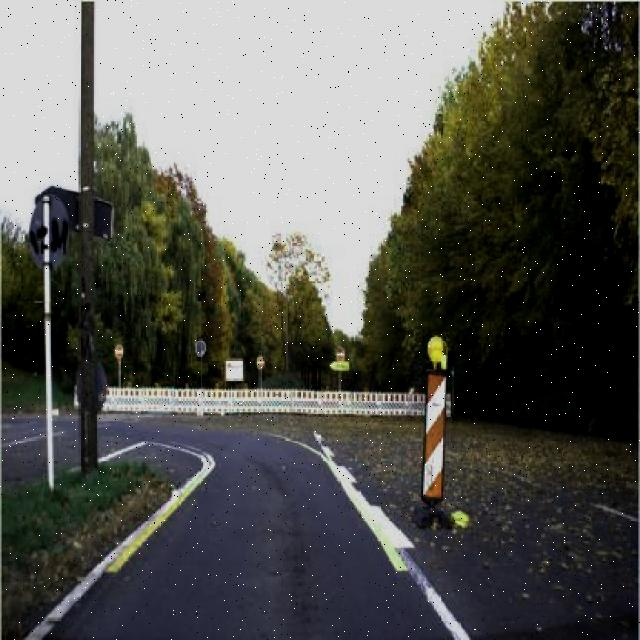Zakaz wjazdu: (112, 342, 126, 362), (256, 354, 266, 372), (334, 347, 346, 362)
